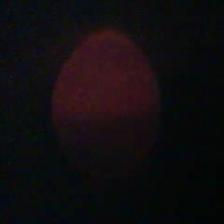fertile: (51, 28, 161, 174)
